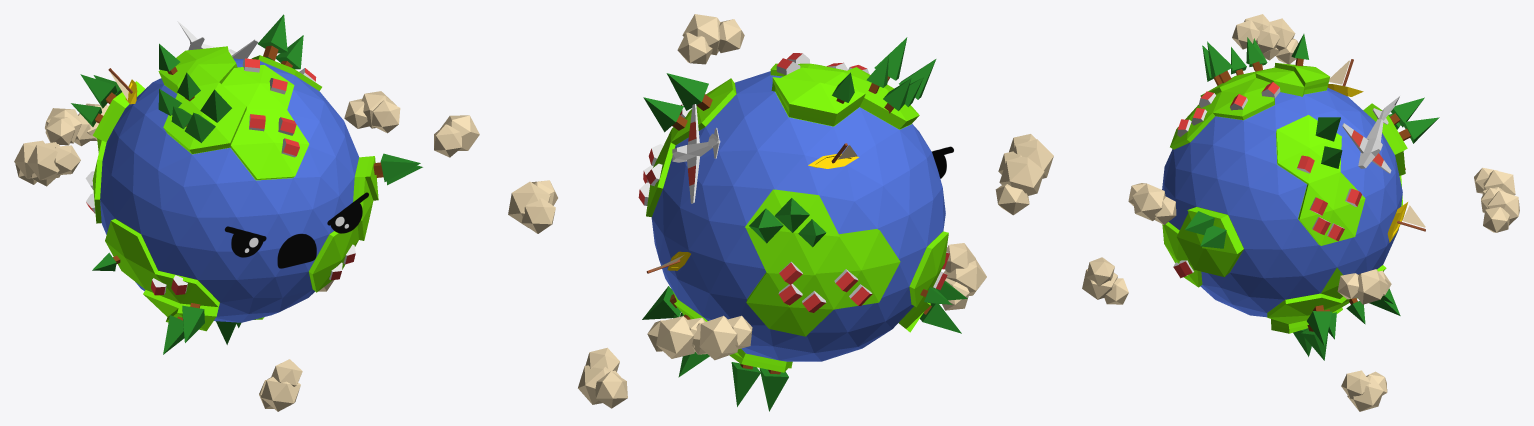
The model's file is anger.glb.
The picture shows the model from 3 angles, left to right: view 1: azimuth 30°, elevation 25°; view 2: azimuth 150°, elevation 25°; view 3: azimuth 270°, elevation 25°; orthographic projection. The views are drawn at different scales.
Parts seen in each view (by area): view 1: Icosphere, 001, Icosphere.001, Icosphere.008, Icosphere.006, Icosphere.003, Icosphere.004, Plane.013, Plane.016, Plane.027, Icosphere.007, Plane.005 (+5 smaller); view 2: Icosphere, Icosphere.004, Icosphere.005, Icosphere.007, Icosphere.003, Icosphere.001, Icosphere.006, Icosphere.002, Plane.003, Plane.013, Icosphere.008, Plane.014 (+9 smaller); view 3: Icosphere, Icosphere.006, Icosphere.004, Plane.003, Icosphere.005, Icosphere.001, Icosphere.002, Icosphere.007, Icosphere.008, Icosphere.003, Plane.002, Plane.020 (+7 smaller).
Part boxes in pixels (x1=…): Icosphere: x1=92, y1=46, x2=378, y2=331; 001: x1=224, y1=192, x2=368, y2=268; Icosphere.001: x1=344, y1=91, x2=400, y2=133; Icosphere.008: x1=27, y1=142, x2=80, y2=186; Icosphere.006: x1=259, y1=359, x2=302, y2=411; Icosphere.003: x1=45, y1=108, x2=94, y2=146; Icosphere.004: x1=434, y1=115, x2=479, y2=157; Plane.013: x1=257, y1=14, x2=287, y2=60; Plane.016: x1=373, y1=153, x2=420, y2=181; Plane.027: x1=182, y1=303, x2=204, y2=342; Icosphere.007: x1=14, y1=140, x2=59, y2=184; Plane.005: x1=80, y1=74, x2=117, y2=108; Icosphere: x1=646, y1=63, x2=948, y2=372; Icosphere.004: x1=677, y1=14, x2=744, y2=64; Icosphere.005: x1=578, y1=347, x2=627, y2=408; Icosphere.007: x1=995, y1=151, x2=1044, y2=215; Icosphere.003: x1=692, y1=315, x2=752, y2=360; Icosphere.001: x1=508, y1=180, x2=557, y2=233; Icosphere.006: x1=942, y1=243, x2=986, y2=310; Icosphere.002: x1=647, y1=316, x2=705, y2=358; Plane.003: x1=672, y1=104, x2=720, y2=203; Plane.013: x1=666, y1=73, x2=712, y2=110; Icosphere.008: x1=1009, y1=134, x2=1053, y2=178; Plane.014: x1=643, y1=97, x2=687, y2=132; Icosphere: x1=1162, y1=63, x2=1407, y2=333; Icosphere.006: x1=1082, y1=257, x2=1128, y2=304; Icosphere.004: x1=1128, y1=183, x2=1176, y2=224; Plane.003: x1=1342, y1=96, x2=1399, y2=173; Icosphere.005: x1=1341, y1=370, x2=1387, y2=411; Icosphere.001: x1=1337, y1=269, x2=1391, y2=304; Icosphere.002: x1=1481, y1=188, x2=1519, y2=232; Icosphere.007: x1=1256, y1=18, x2=1298, y2=64; Icosphere.008: x1=1232, y1=14, x2=1279, y2=60; Icosphere.003: x1=1474, y1=167, x2=1515, y2=195; Plane.002: x1=1387, y1=202, x2=1425, y2=242; Plane.020: x1=1307, y1=305, x2=1332, y2=345.
Bounding box in the file's own units: 3.83 × 2.76 × 3.75.
12 materials, 1 textured.
